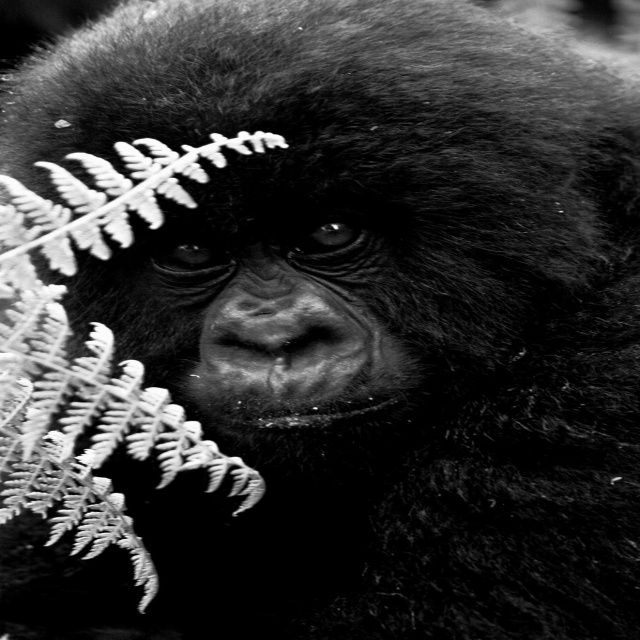Monkey: (0, 8, 640, 630)
